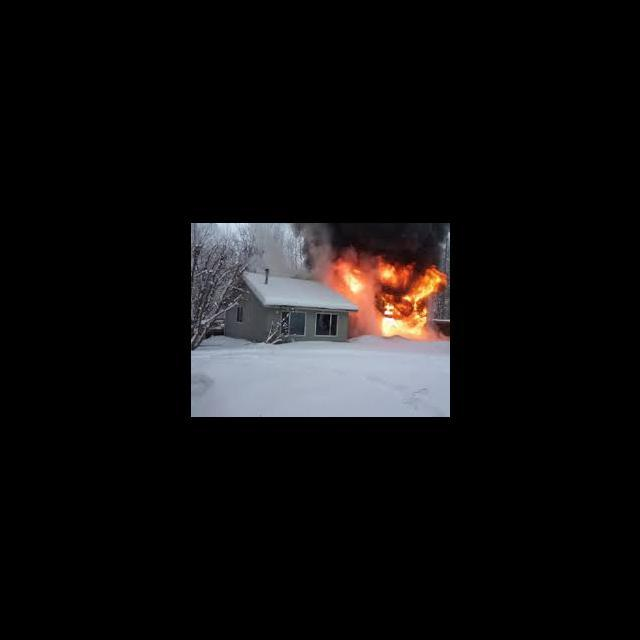Fire: (336, 246, 448, 342)
Smoke: (336, 223, 449, 247), (296, 224, 336, 275)
